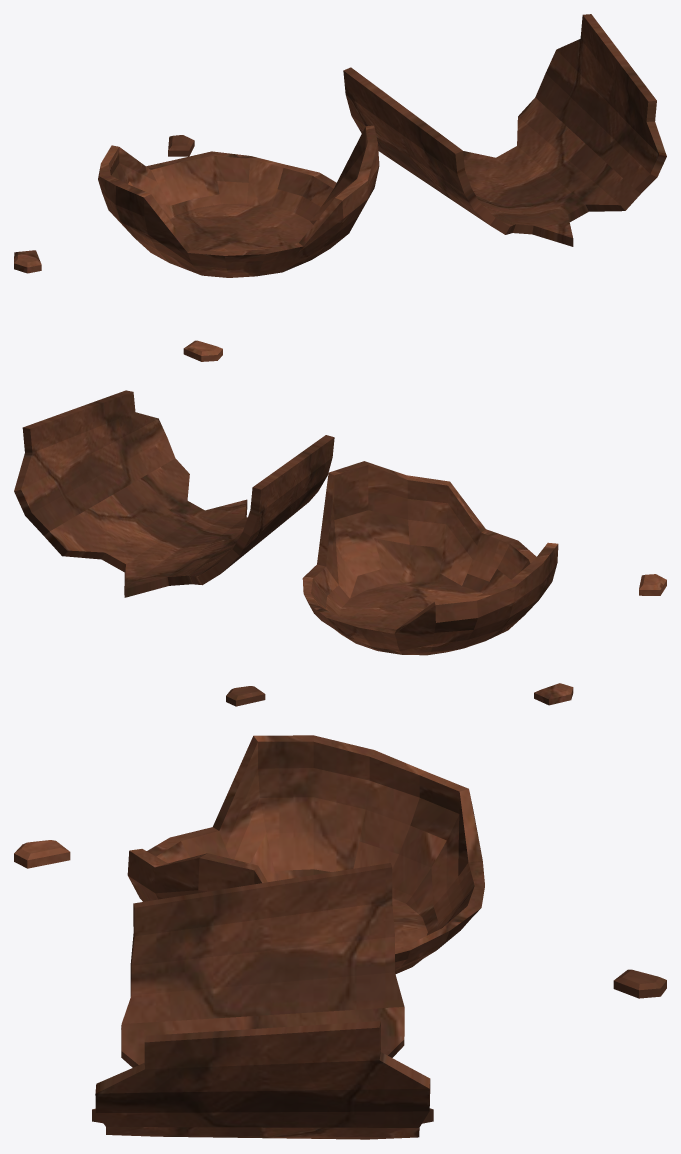
Rendered from junk_urn_broken_e.glb.
3 views of the same model, one above another, from view 1: azimuth 30°, elevation 25°; view 2: azimuth 150°, elevation 25°; view 3: azimuth 270°, elevation 25° (orthographic). The views are drawn at different scales.
Parts seen in each view (by area): view 1: model; view 2: model; view 3: model.
Part boxes in pixels (x1,y1,x2,y2): model: (14,14,666,361); model: (14,390,666,706); model: (14,735,666,1139).
Bounding box in the file's own units: 0.8859 × 0.1921 × 0.641.
3 materials, 3 textured.
